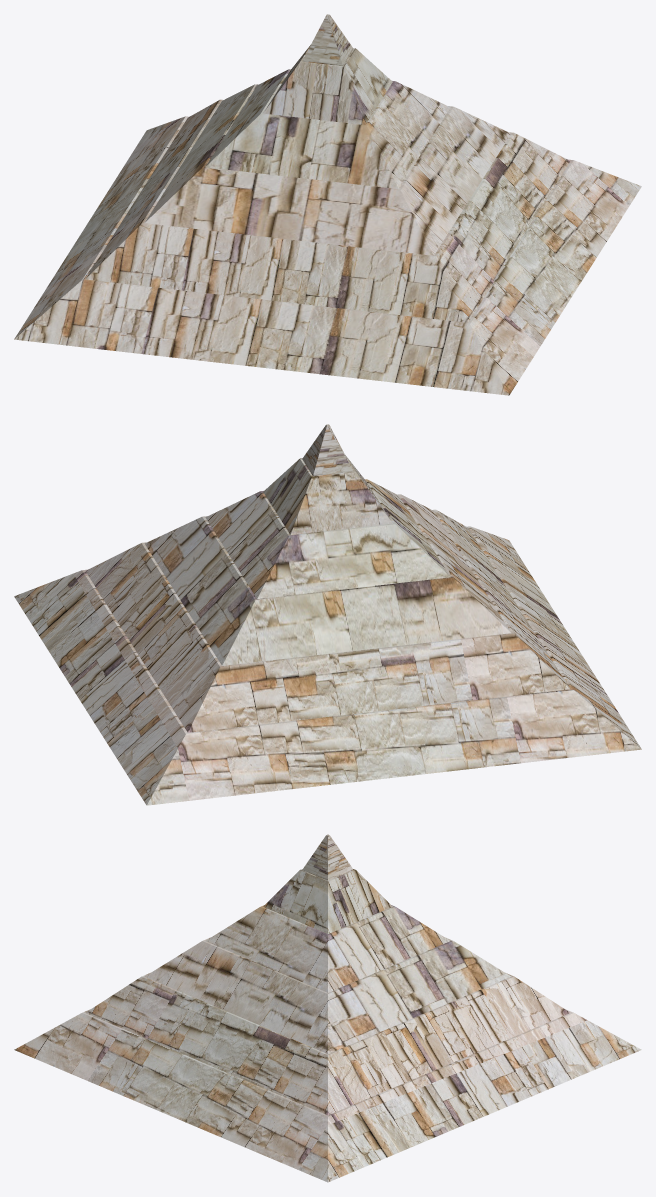
File: piramidDeath.fbx
The picture shows the model from 3 angles, top to bottom: view 1: azimuth 30°, elevation 25°; view 2: azimuth 150°, elevation 25°; view 3: azimuth 270°, elevation 25°; orthographic projection. The views are drawn at different scales.
Parts seen in each view (by area): view 1: Cone, Cone.002, Cone.003, Cone.004, Cone.005, Cone.006; view 2: Cone, Cone.002, Cone.003, Cone.004, Cone.005, Cone.006; view 3: Cone, Cone.002, Cone.003, Cone.004, Cone.005, Cone.006.
Part boxes in pixels (x1,y1,x2,y2): Cone: [14, 116, 641, 395]; Cone.002: [85, 99, 570, 322]; Cone.003: [145, 84, 510, 255]; Cone.004: [205, 69, 450, 188]; Cone.005: [263, 45, 392, 124]; Cone.006: [302, 14, 353, 66]; Cone: [14, 526, 641, 805]; Cone.002: [85, 509, 570, 732]; Cone.003: [145, 494, 510, 665]; Cone.004: [205, 479, 450, 598]; Cone.005: [263, 455, 392, 534]; Cone.006: [302, 424, 353, 476]; Cone: [14, 1009, 641, 1182]; Cone.002: [85, 973, 570, 1115]; Cone.003: [145, 937, 510, 1053]; Cone.004: [206, 905, 449, 992]; Cone.005: [263, 869, 392, 933]; Cone.006: [302, 834, 353, 880].
Bounding box in the file's own units: 1184 × 447 × 1184.
